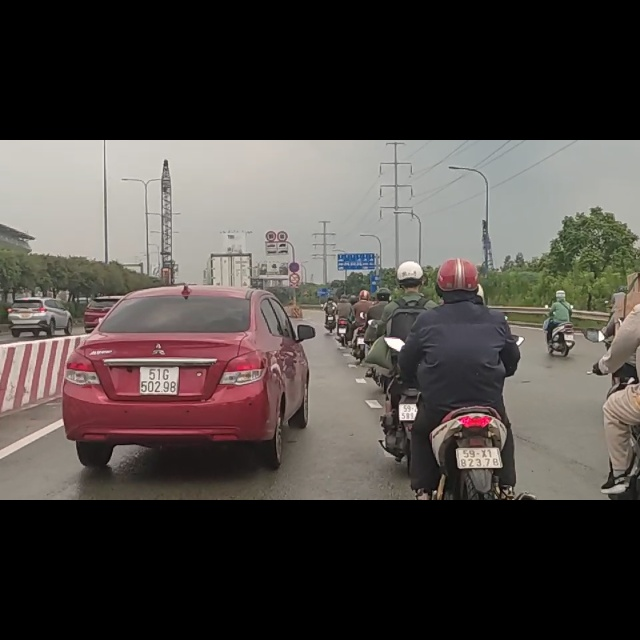bien_chi_dan: (288, 216, 300, 236)
